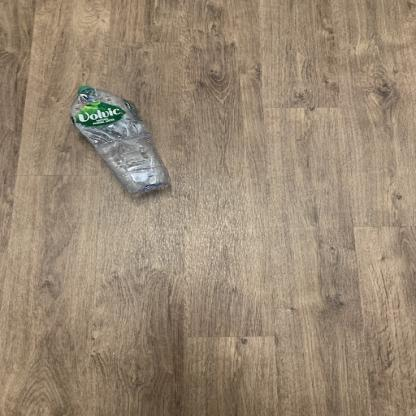trash: (70, 87, 171, 202)
